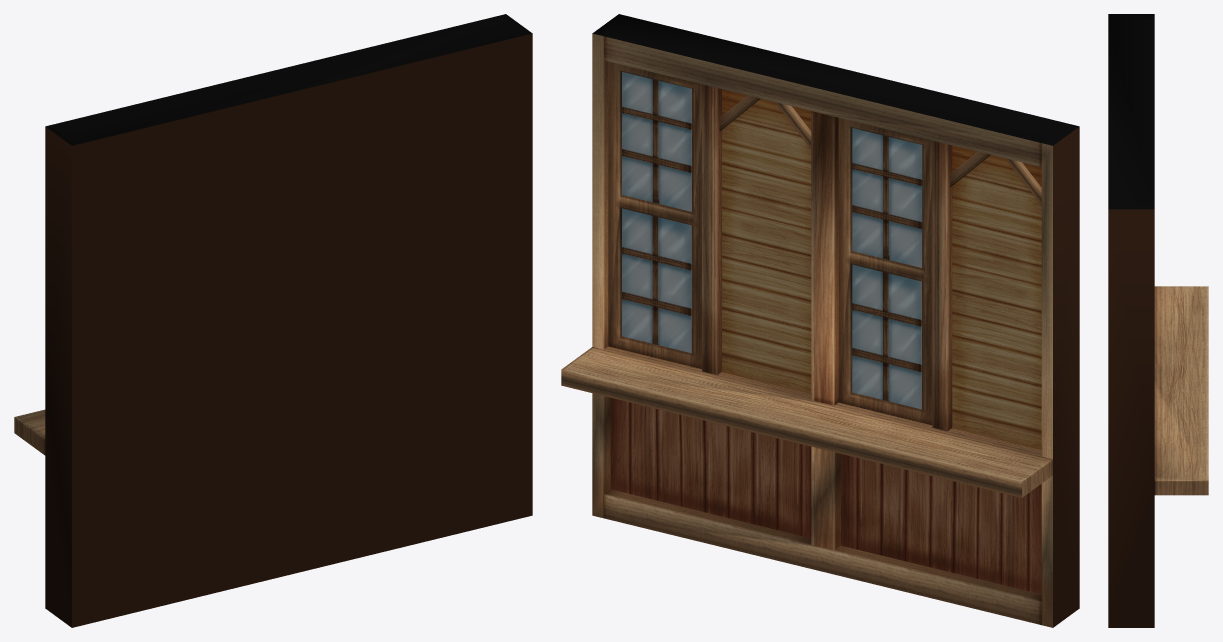
Rendered from a_SWGowall01A.glb.
3 renders of one model, left to right at view 1: azimuth 30°, elevation 25°; view 2: azimuth 150°, elevation 25°; view 3: azimuth 270°, elevation 25°, orthographic. The views are drawn at different scales.
Visible parts, largest first — view 1: a_SWGowall01A; view 2: a_SWGowall01A; view 3: a_SWGowall01A.
Part boxes in pixels (x1=…): a_SWGowall01A: x1=14, y1=14, x2=532, y2=627; a_SWGowall01A: x1=561, y1=14, x2=1079, y2=627; a_SWGowall01A: x1=1108, y1=14, x2=1208, y2=627.
Size of the model in its own units: 3 by 3 by 0.6502.
3 materials, 3 textured.
